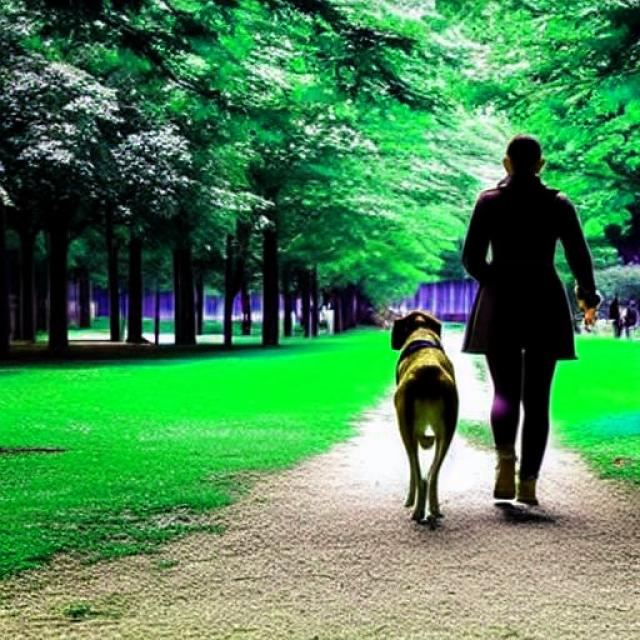Unleashed_Dog: (391, 311, 558, 522)
